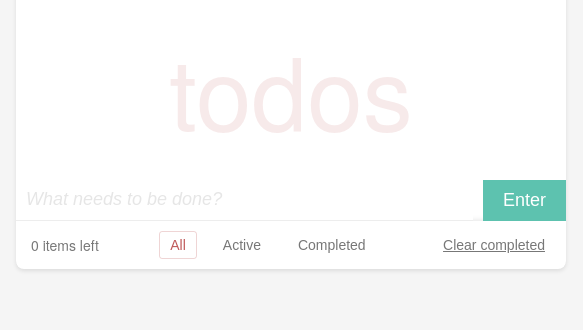
Test: Todo App › should add a new todo
The width and height of the screenshot is (583, 330).
Type "New Task" into the field with placeholder "What needs to be done?".
click(244, 200); type("New Task")  # box [16, 179, 473, 221]
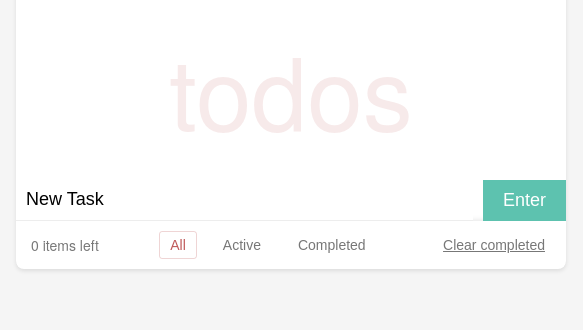
Press Enter in the field with placeholder "What needs to be done?", box [16, 179, 473, 221]
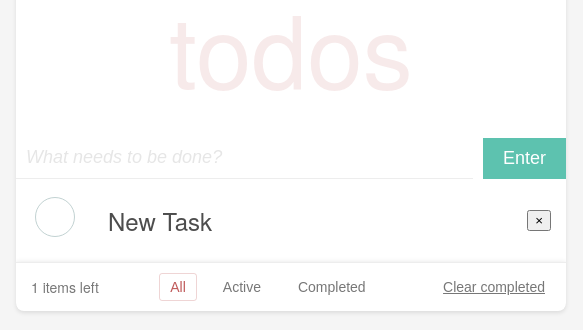
Expected: the text "New Task" is shown, [108, 203, 212, 238]
